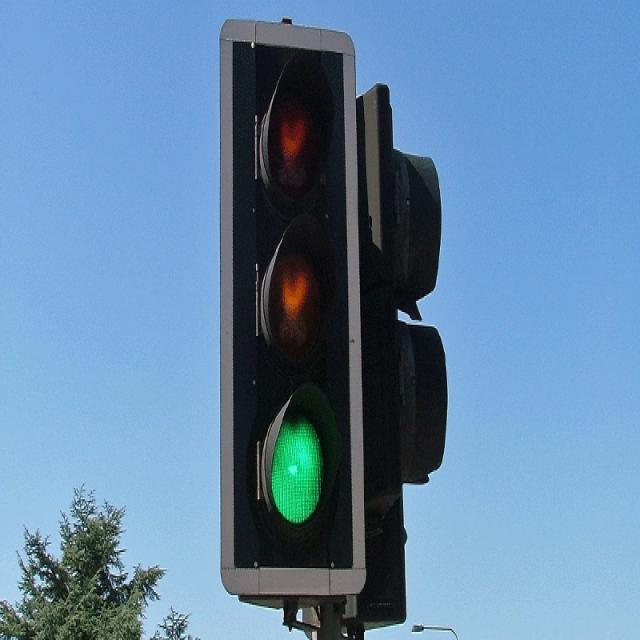green: (251, 386, 353, 551)
